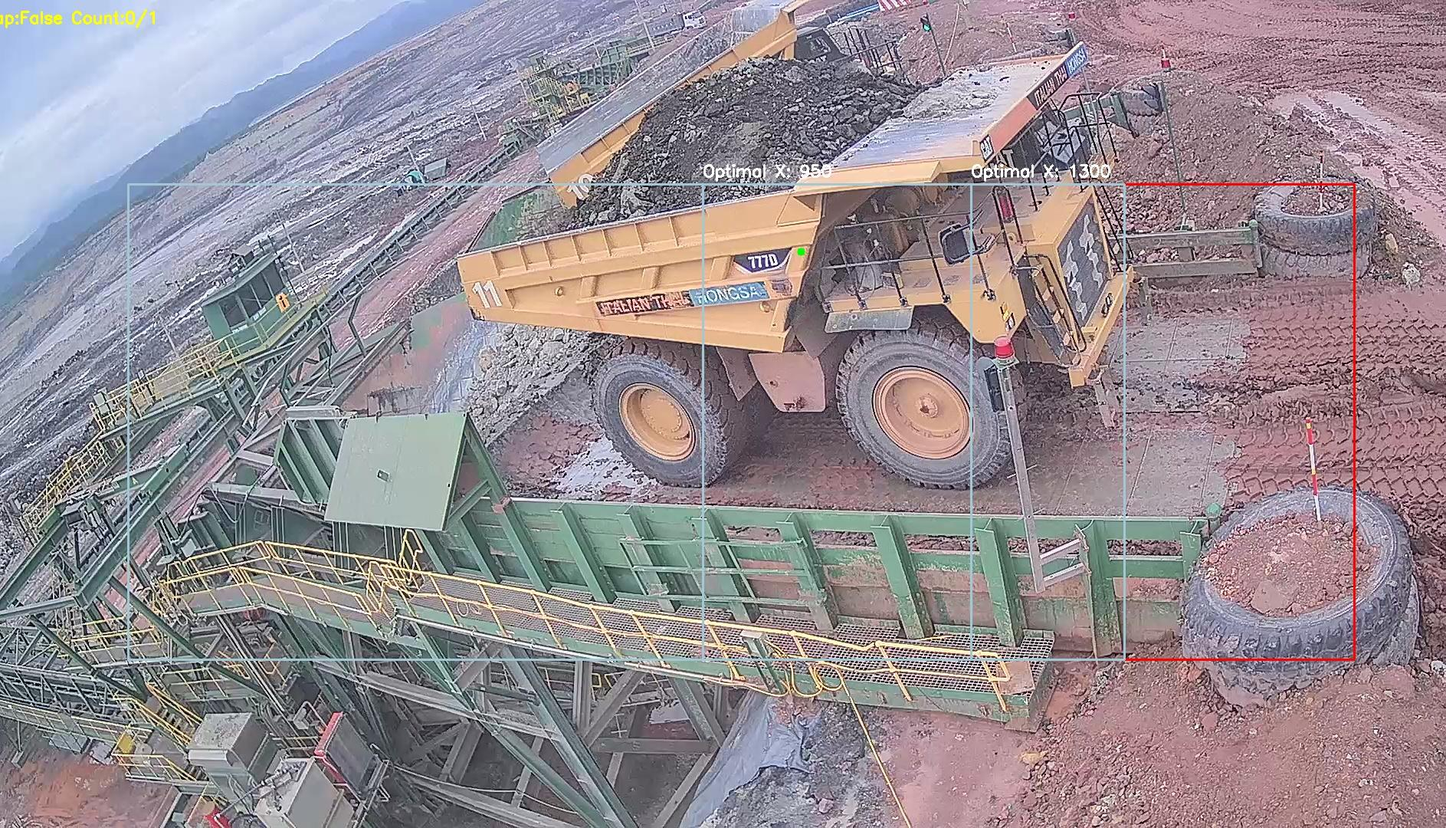company: (586, 278, 785, 321)
full_load: (552, 51, 892, 212)
mining_truck: (451, 28, 1154, 491)
tail_number: (467, 274, 510, 315)
truck_size: (727, 244, 790, 273)
